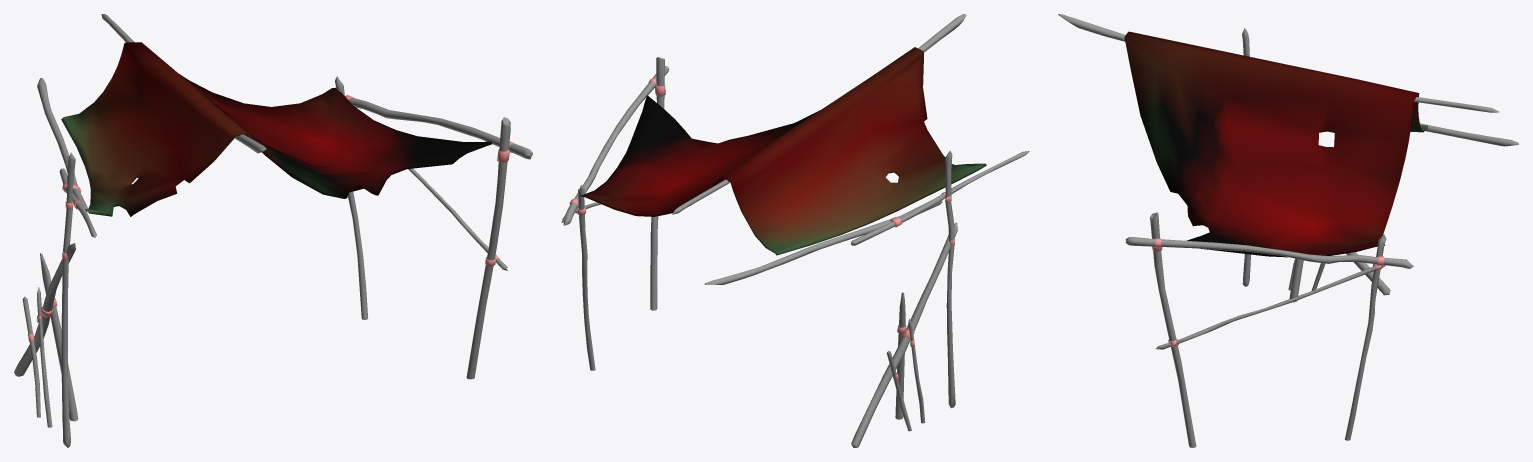
Rendered from wooden_village_tent_small_base_D.gltf.
3 renders of one model, left to right at view 1: azimuth 30°, elevation 25°; view 2: azimuth 150°, elevation 25°; view 3: azimuth 270°, elevation 25°, orthographic. The views are drawn at different scales.
Visible parts, largest first — view 1: wooden_village_tent_small_base_D; view 2: wooden_village_tent_small_base_D; view 3: wooden_village_tent_small_base_D.
Boxes of the visible parts, x1,y1,x2,y2 form: wooden_village_tent_small_base_D: (14, 14, 532, 447); wooden_village_tent_small_base_D: (561, 14, 1029, 447); wooden_village_tent_small_base_D: (1058, 14, 1518, 447).
Size of the model in its own units: 5.19 by 4.07 by 5.45.
